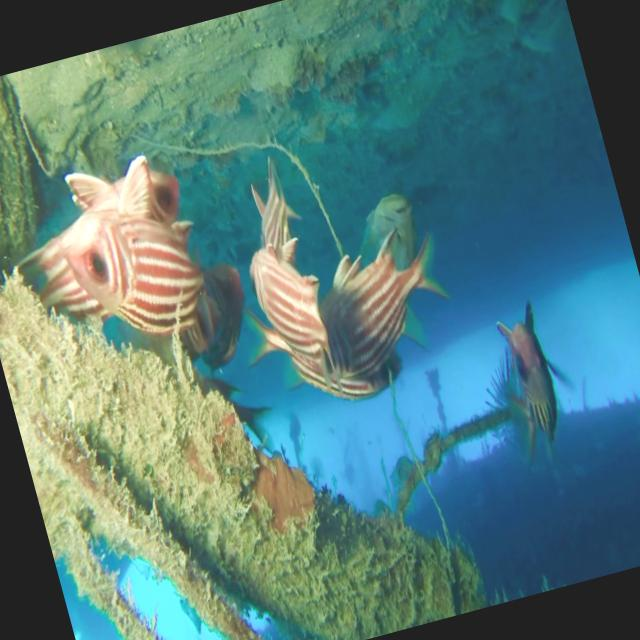Asker Baligi: (49, 156, 227, 372), (232, 223, 348, 374), (474, 295, 580, 455)
